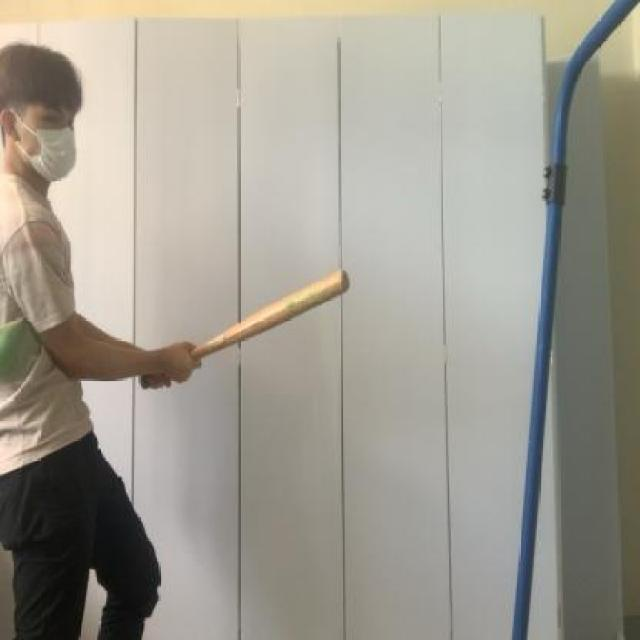baseball: (0, 306, 48, 392)
